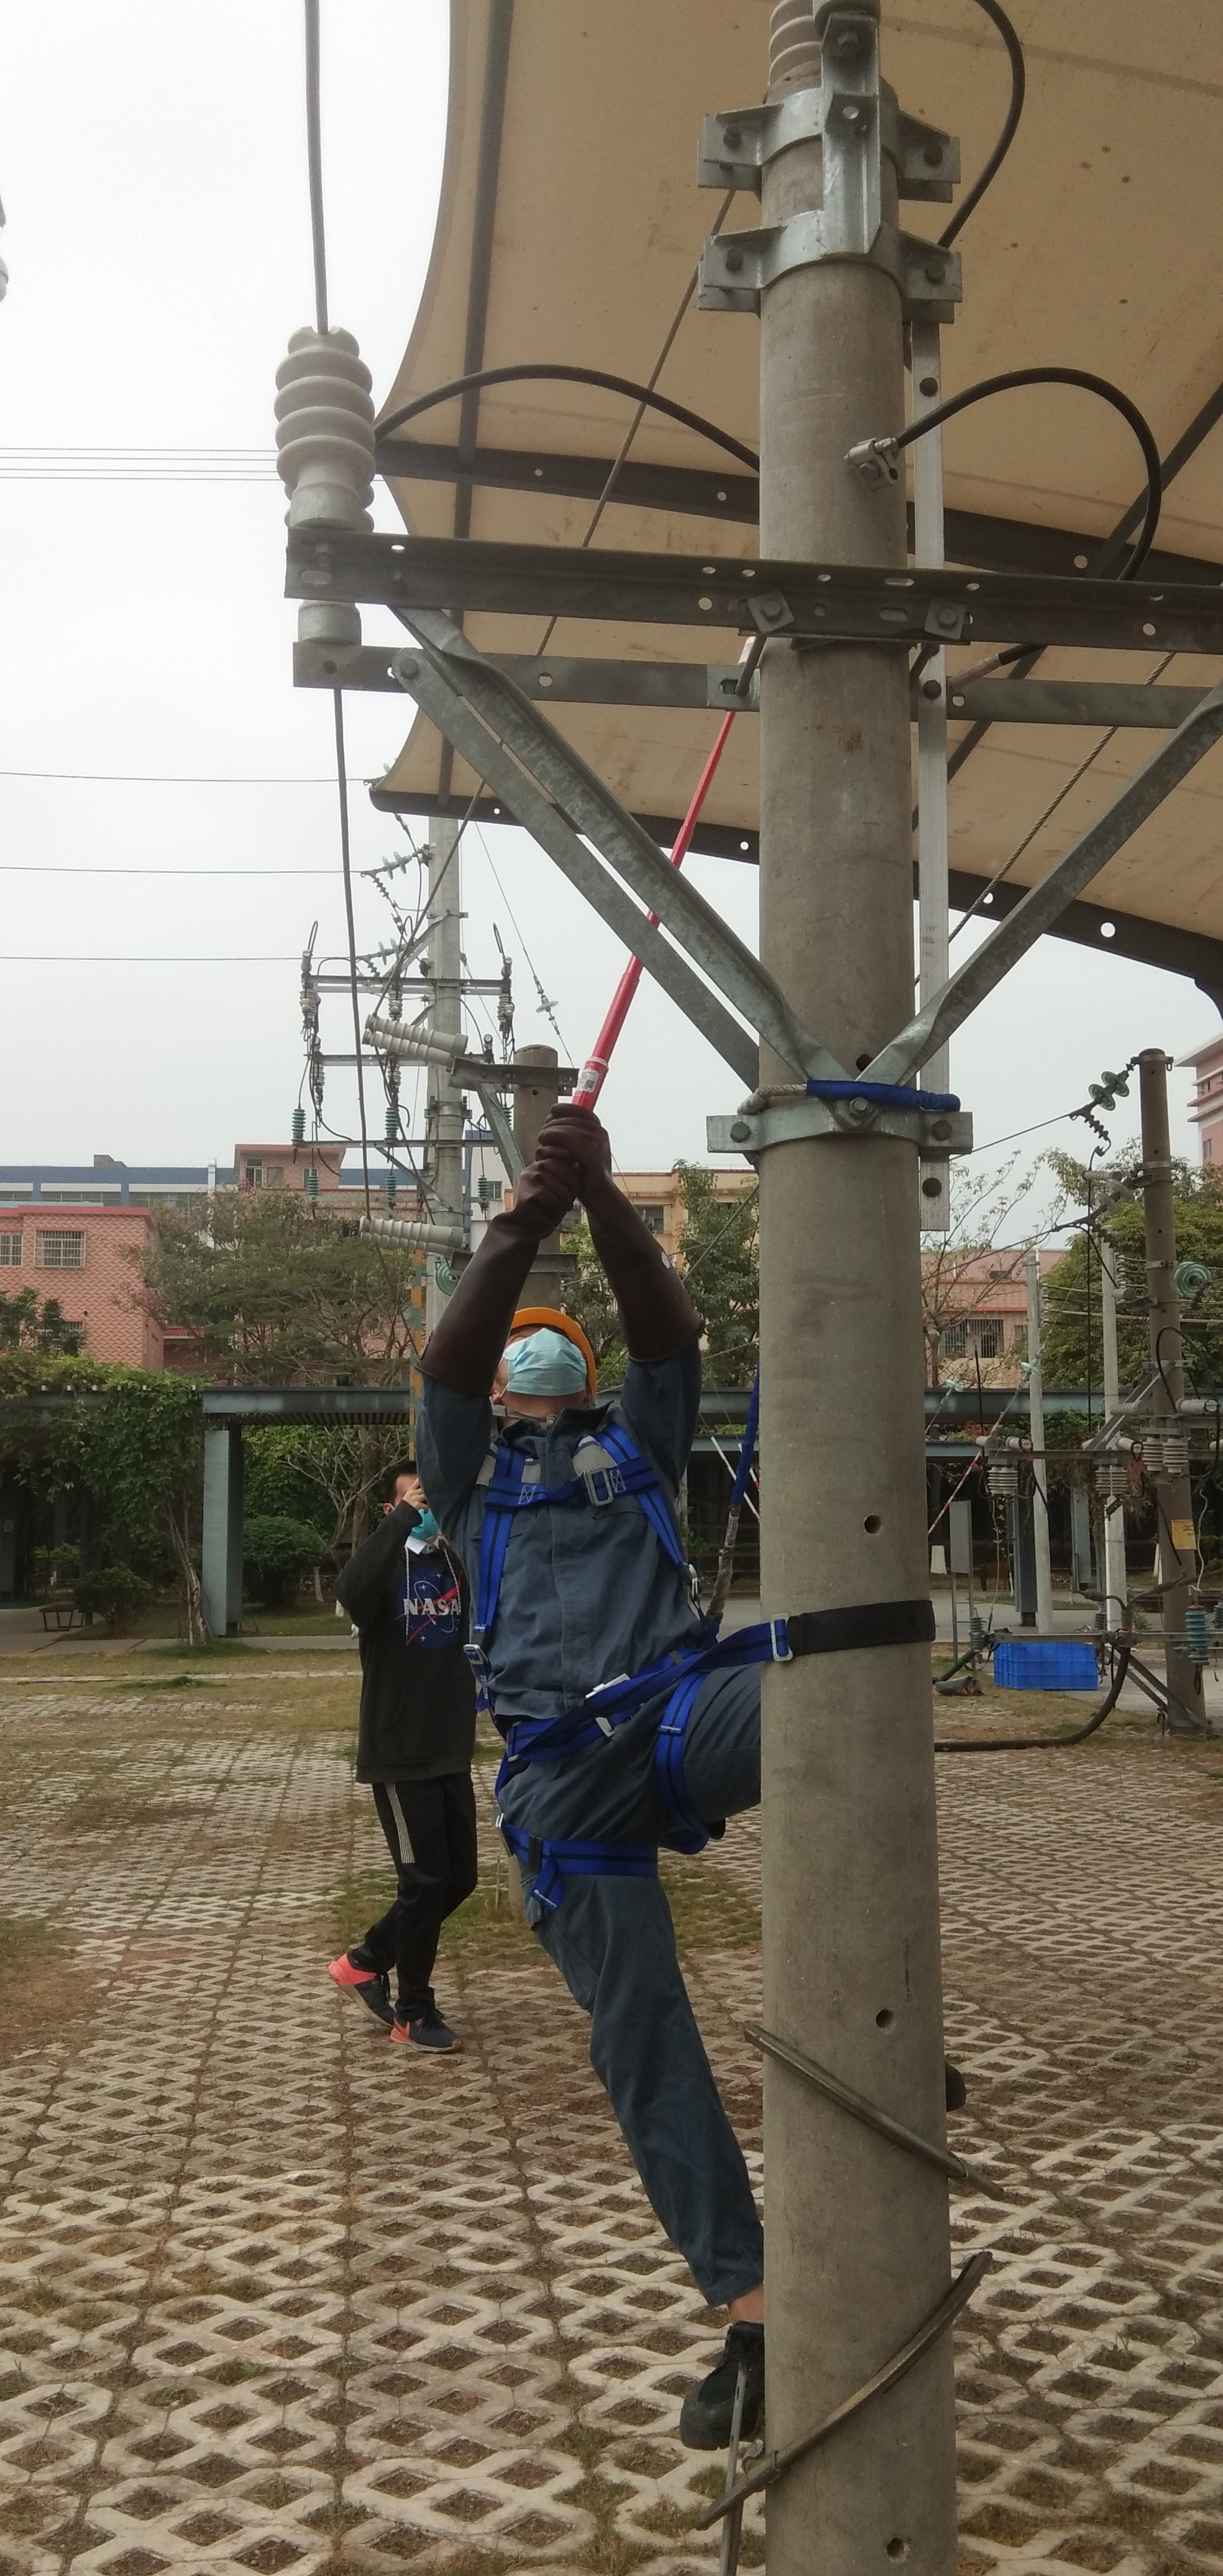downcloth: (350, 1782, 478, 1993)
downsuit: (510, 1700, 767, 2294)
halt: (488, 1315, 601, 1430)
longglove: (561, 1117, 707, 1355), (418, 1156, 582, 1365)
person: (347, 1142, 766, 2419), (331, 1410, 492, 2050)
safebelt: (417, 1074, 971, 1928)
testrod: (557, 627, 761, 1111)
upcloth: (342, 1530, 482, 1773)
upsuit: (398, 1359, 707, 1698)
